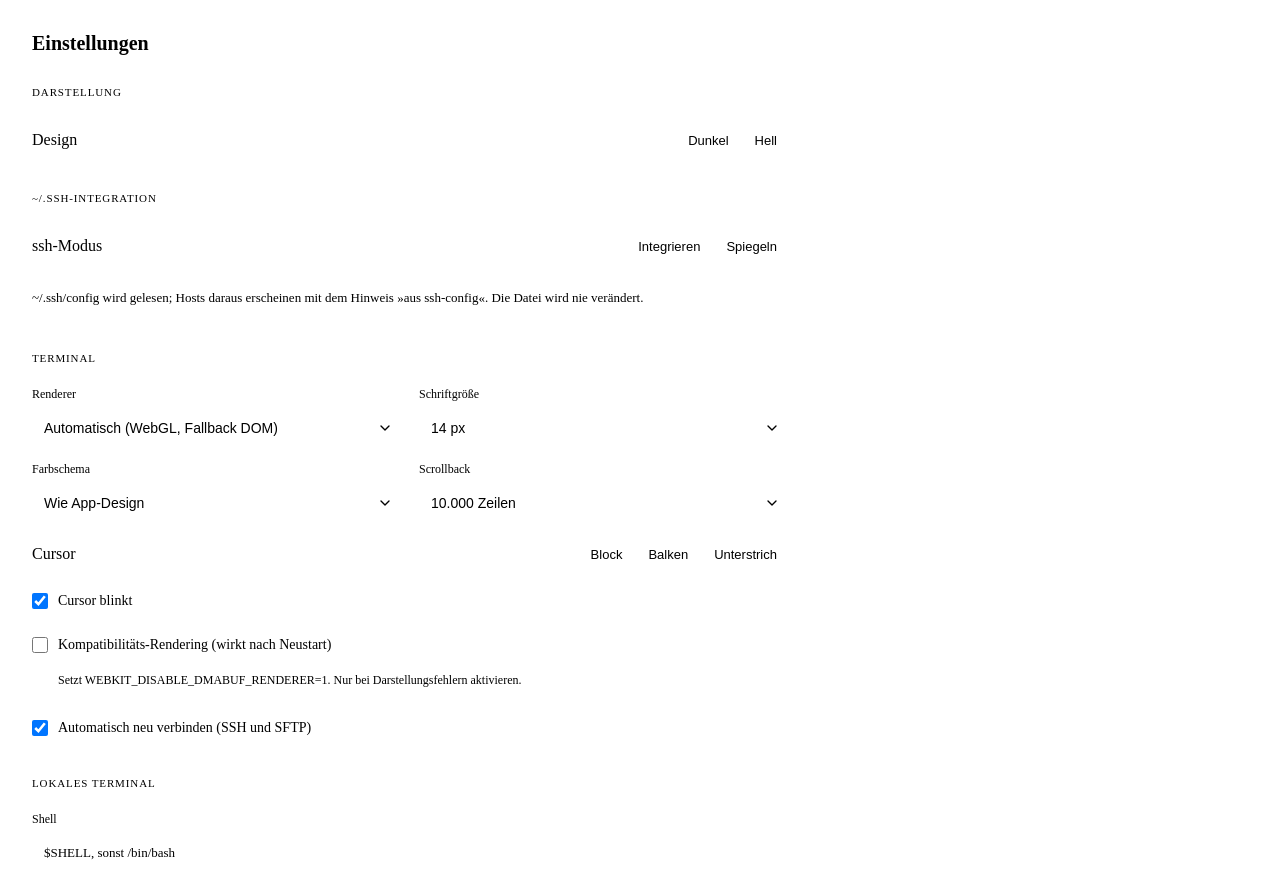
Test: SettingsScreen › reports failed saves
Click the radio button labelled "Spiegeln". click: (752, 246)
box: [714, 230, 789, 262]
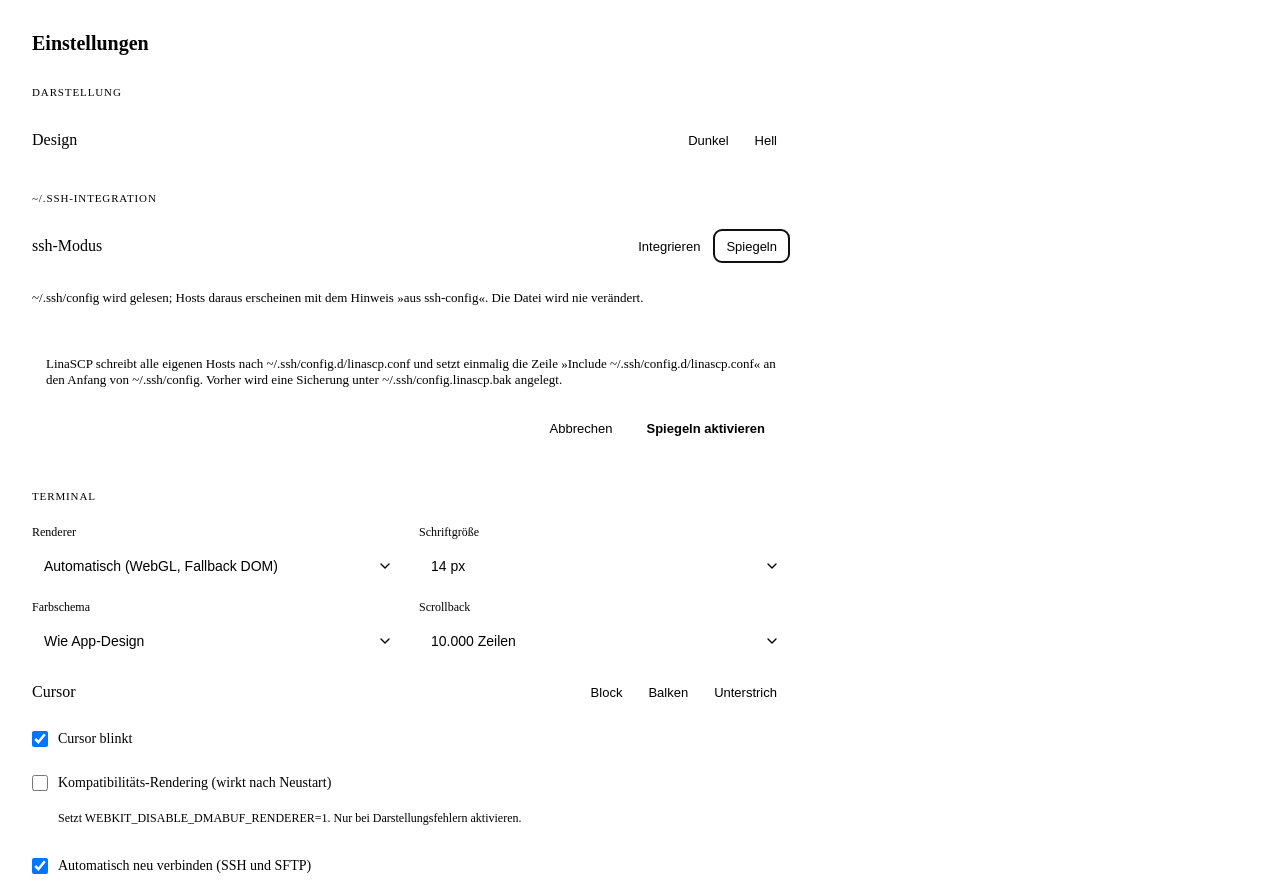
Click the button "Spiegeln aktivieren". click: (706, 428)
box: [634, 411, 778, 445]
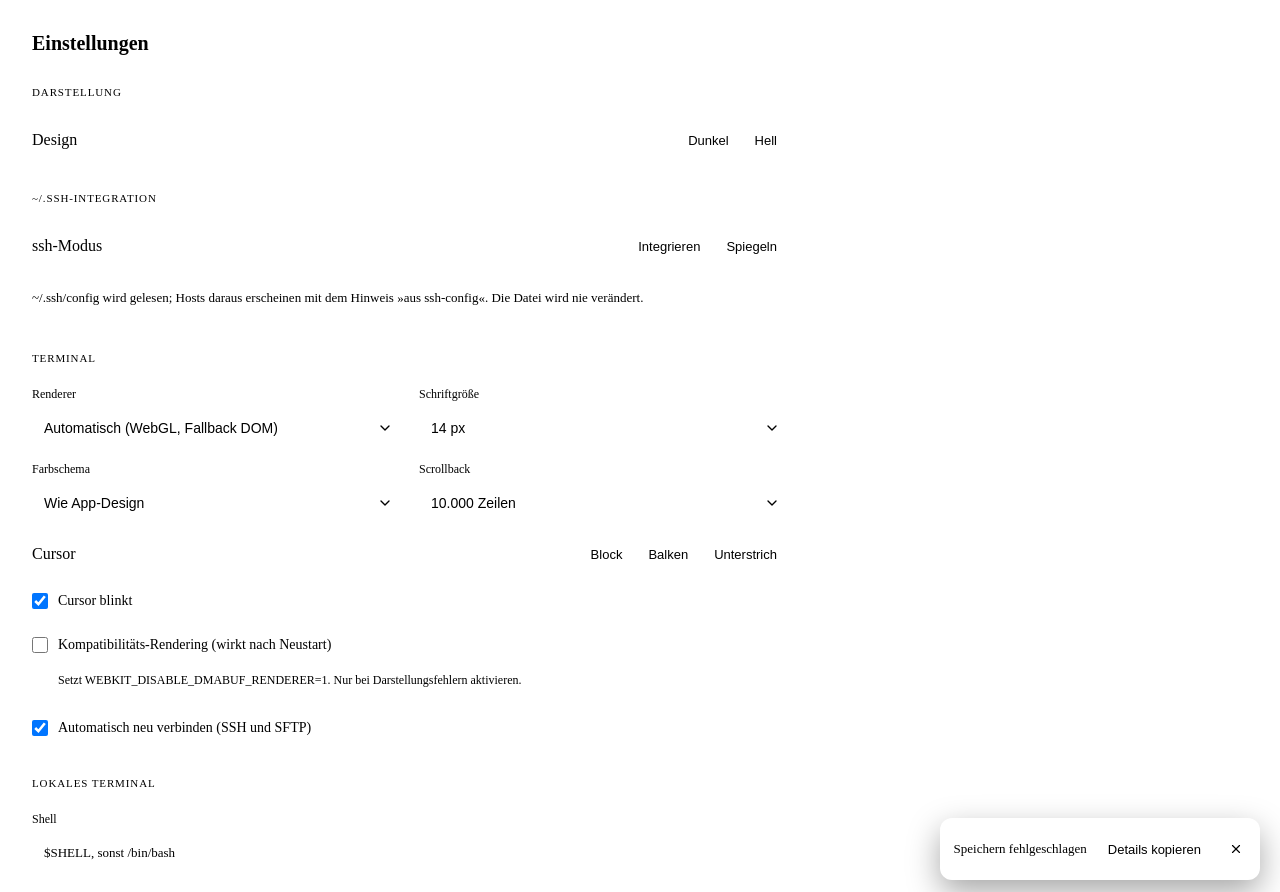
Check: the message shows "Speichern fehlgeschlagen", box [954, 841, 1087, 856]
